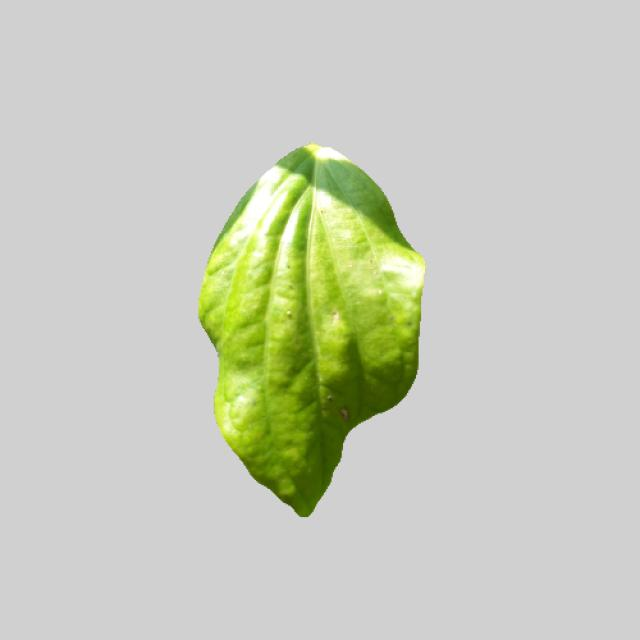yellow-mottle-virus: (196, 142, 424, 516)
